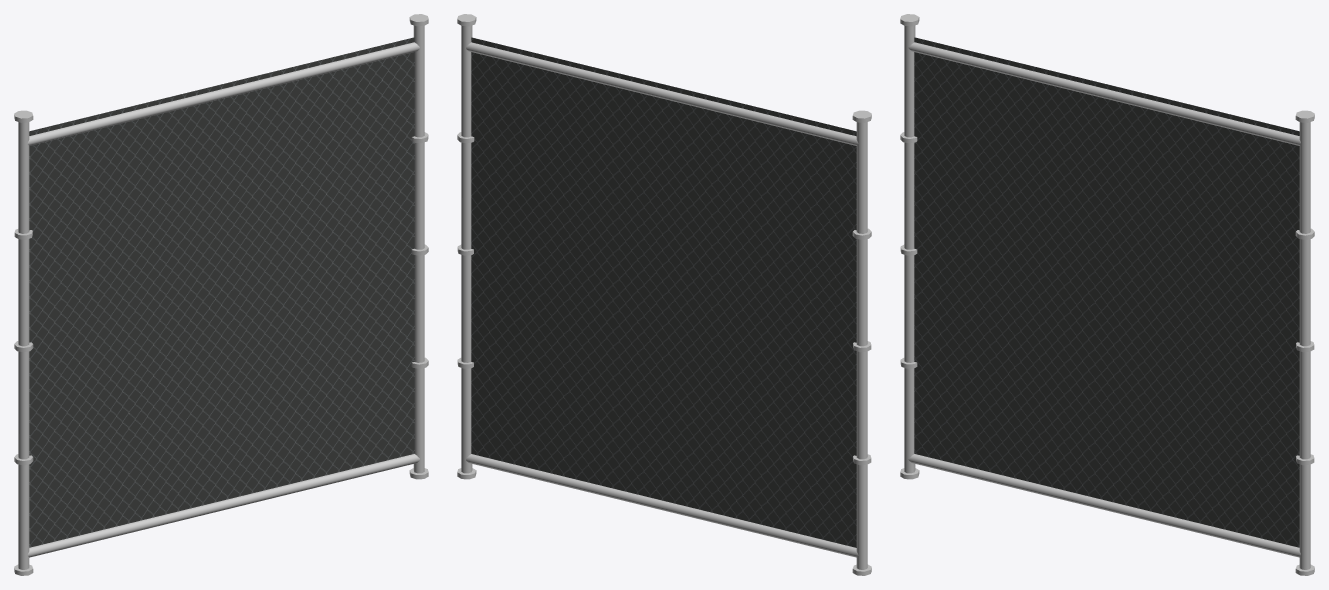
Rendered from Fence_MetalChainlink_2x.FBX.
3 views of the same model, side by side, from view 1: azimuth 30°, elevation 25°; view 2: azimuth 150°, elevation 25°; view 3: azimuth 330°, elevation 25° (orthographic).
Parts seen in each view (by area): view 1: Fence_MetalChainlink_2x; view 2: Fence_MetalChainlink_2x; view 3: Fence_MetalChainlink_2x.
Boxes of the visible parts, box(x1,y1,x2,y2) form: Fence_MetalChainlink_2x: box(14, 14, 428, 575); Fence_MetalChainlink_2x: box(457, 14, 871, 575); Fence_MetalChainlink_2x: box(900, 14, 1314, 575).
Bounding box in the file's own units: 209 × 221 × 8.62.
